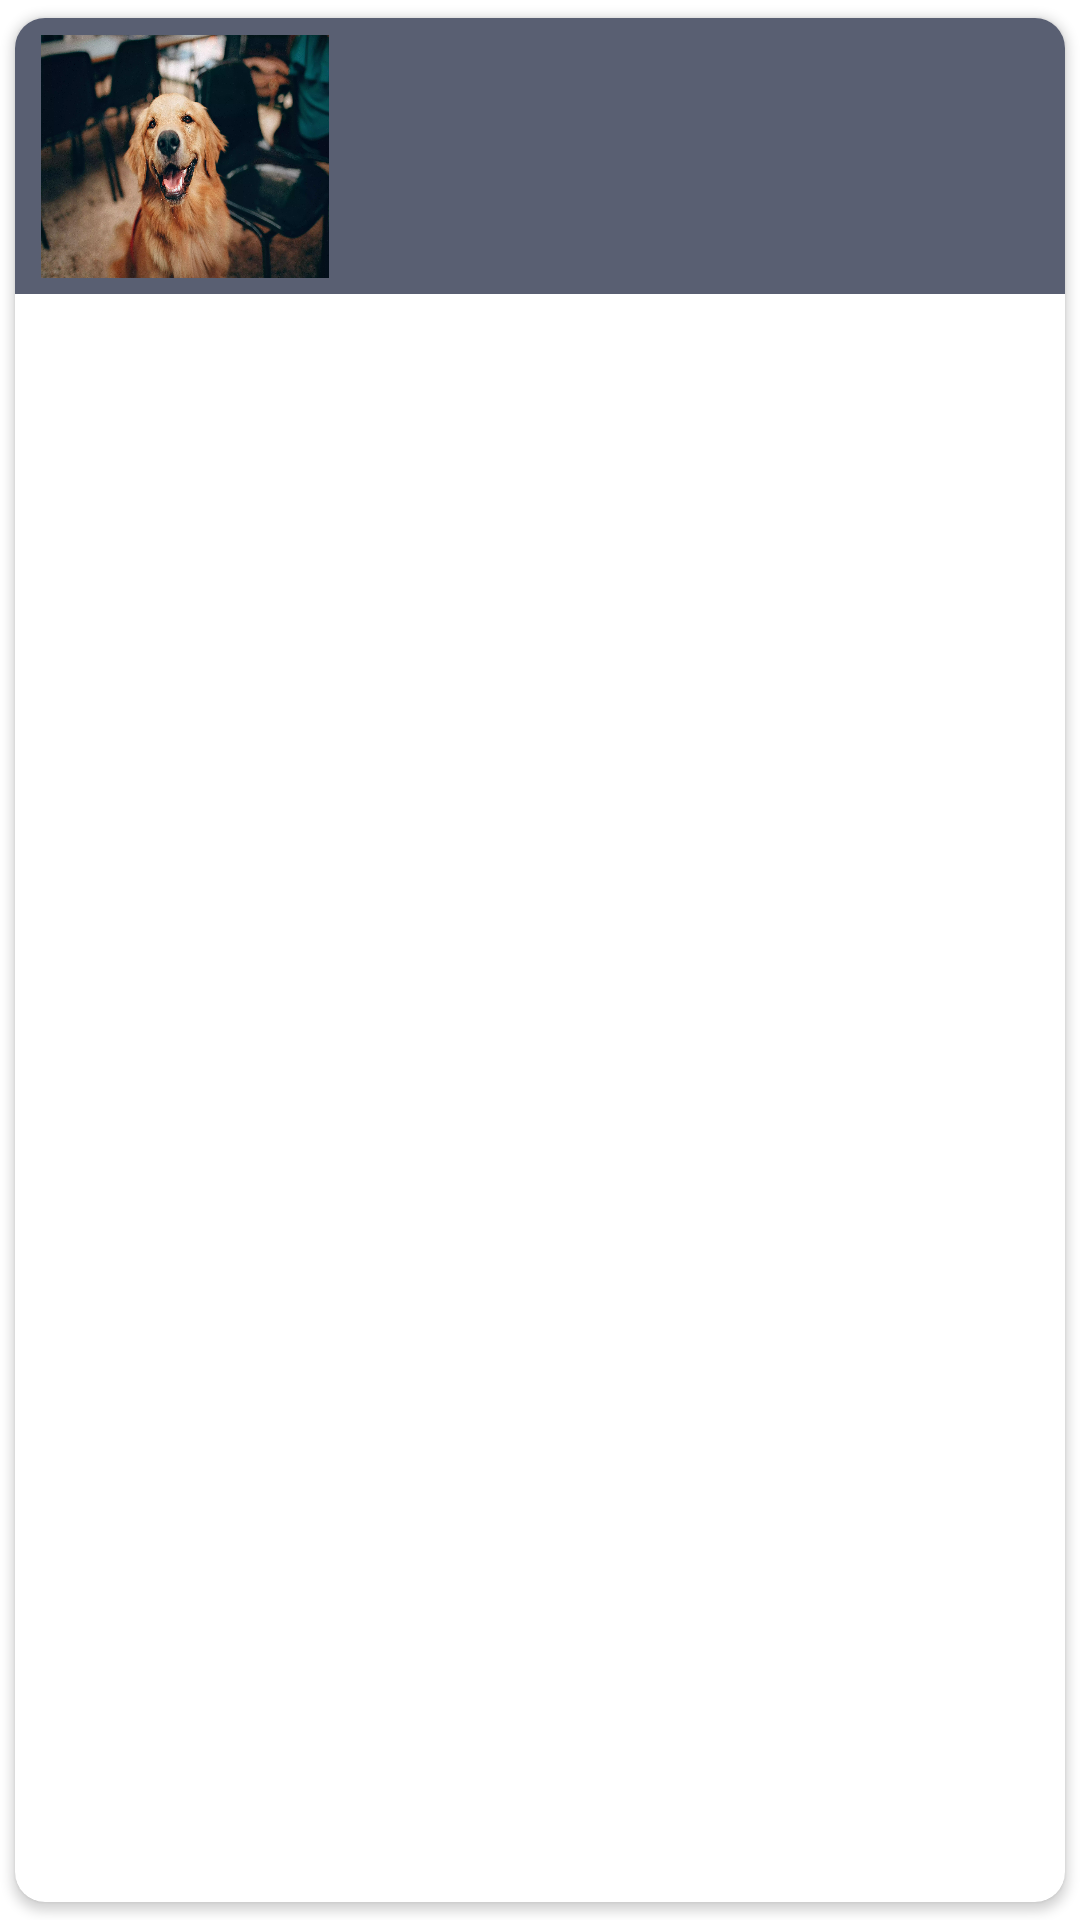

Named icons in this screenshot (1080 x 1920) and their bounding boxes, (x1, y1, x2, y2):
perrito: (41, 35, 329, 278)
